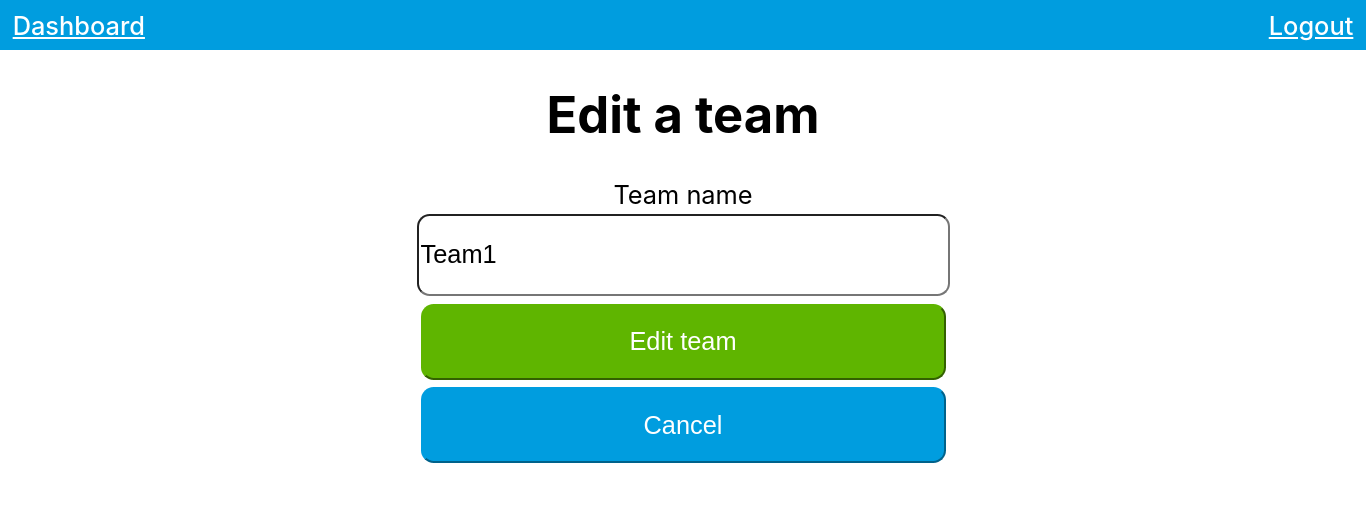
can show error message
expect the heading "Edit a team" is shown: met, box [333,84,1033,145]
Step 1. Replace the text in the field with placeholder "Team name" with "test" → (683, 255), box [416,214,950,296]
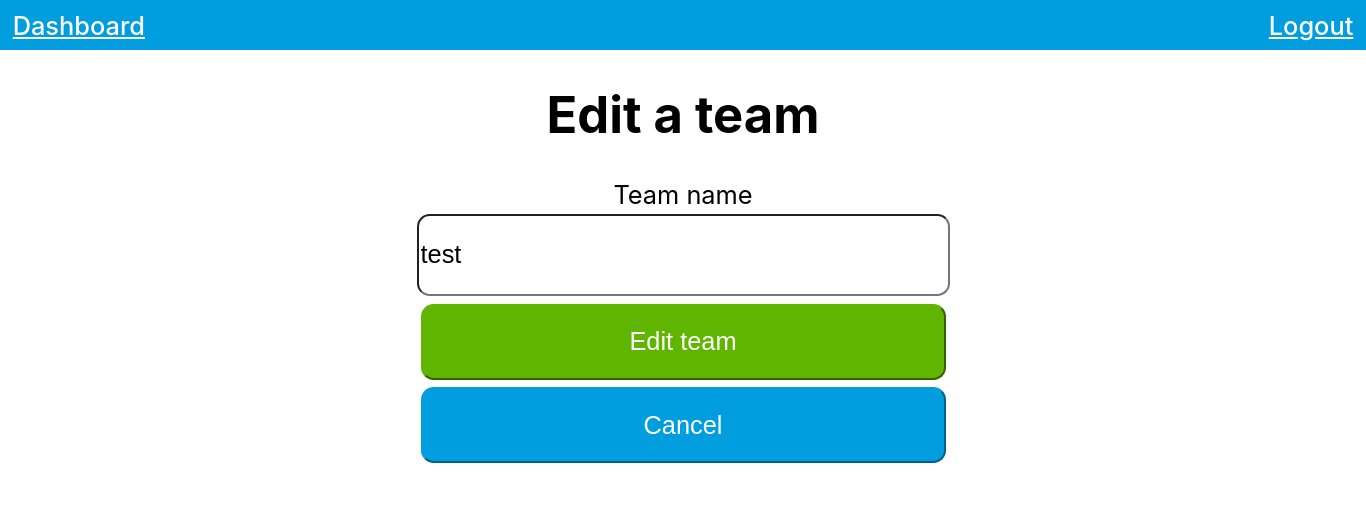
Step 2. Click the button "Edit team" → (683, 342), box [420,304,946,380]
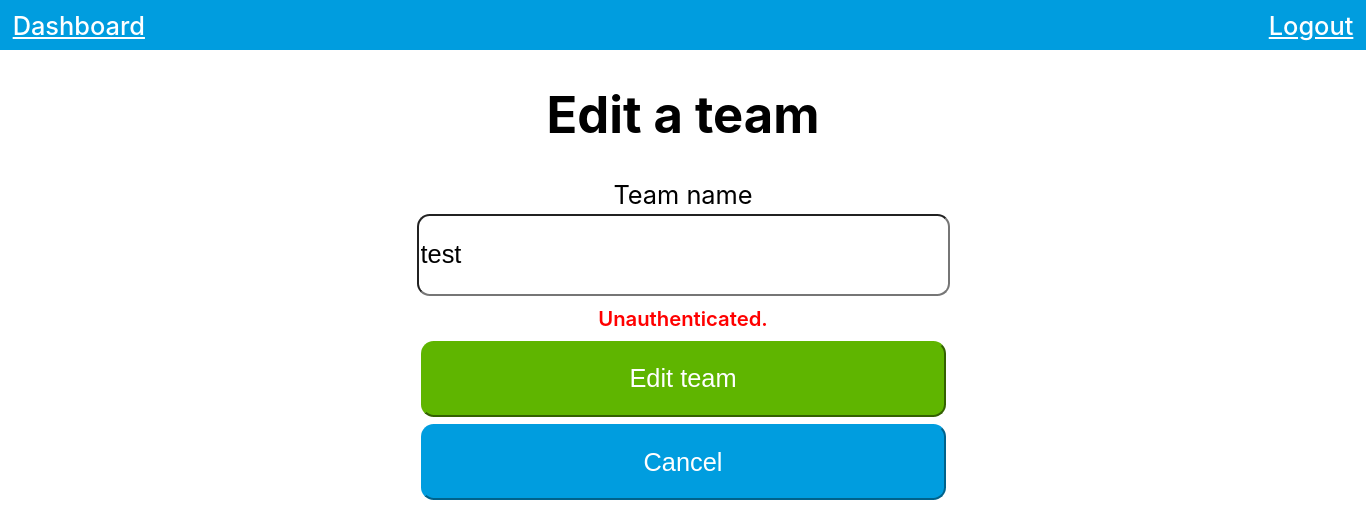
expect the text "Unauthenticated." is shown: met, box [333,300,1033,337]
